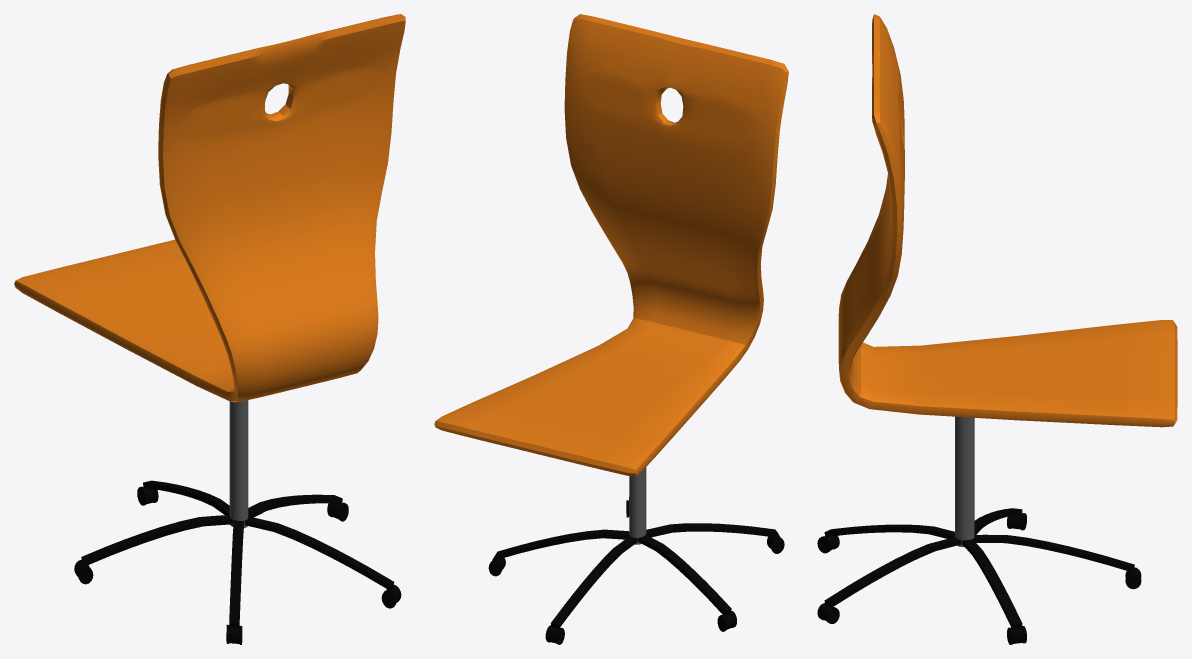
Rendered from Chair_orange_rollen.fbx.
3 renders of one model, left to right at view 1: azimuth 30°, elevation 25°; view 2: azimuth 150°, elevation 25°; view 3: azimuth 270°, elevation 25°, orthographic. The views are drawn at different scales.
Parts seen in each view (by area): view 1: Chair_3; view 2: Chair_3; view 3: Chair_3.
Boxes of the visible parts, left/top/right/bottom form: Chair_3: left=14, top=14, right=405, bottom=644; Chair_3: left=434, top=14, right=788, bottom=644; Chair_3: left=817, top=14, right=1177, bottom=644.
Size of the model in its own units: 40 by 80 by 50.
